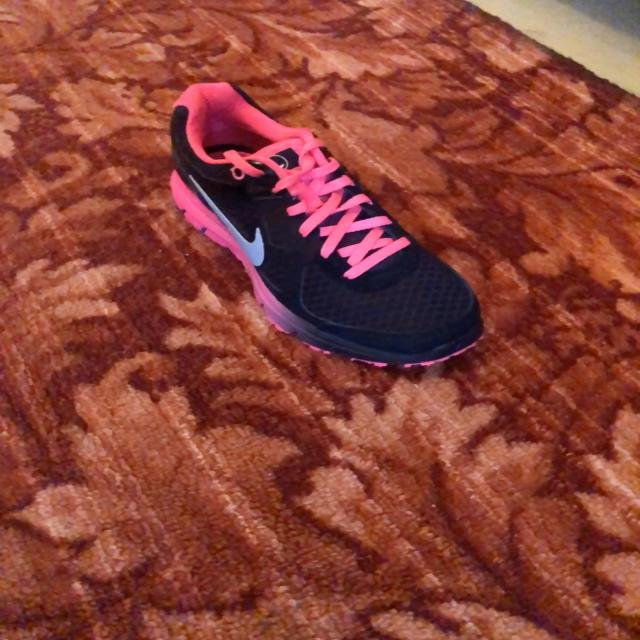shoe: (168, 83, 484, 369)
